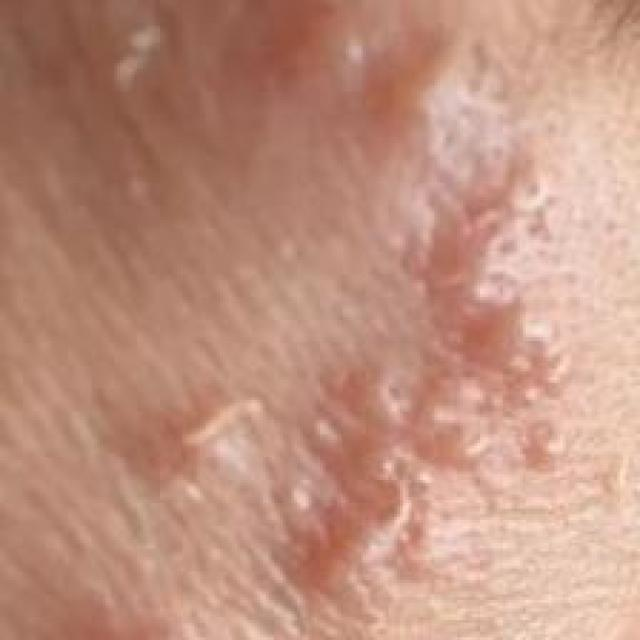monkeypox: (66, 0, 603, 629)
